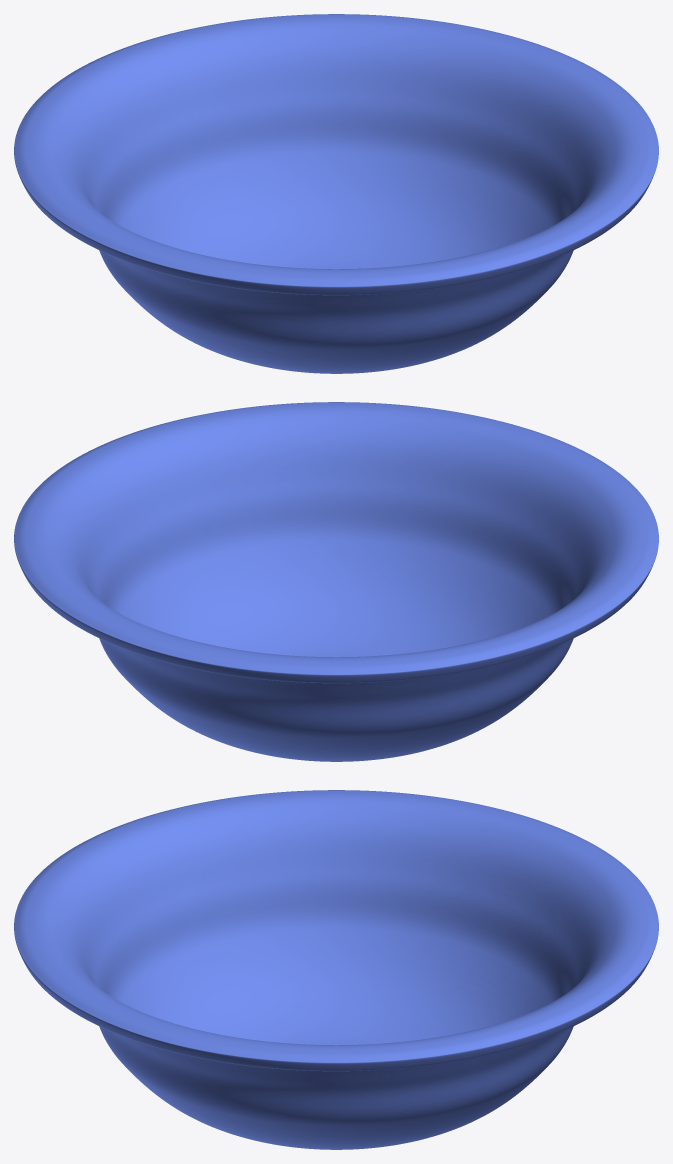
3 renders of one model, top to bottom at view 1: azimuth 30°, elevation 25°; view 2: azimuth 150°, elevation 25°; view 3: azimuth 270°, elevation 25°, orthographic.
Size of the model in its own units: 0.3013 by 0.0914 by 0.3013.
